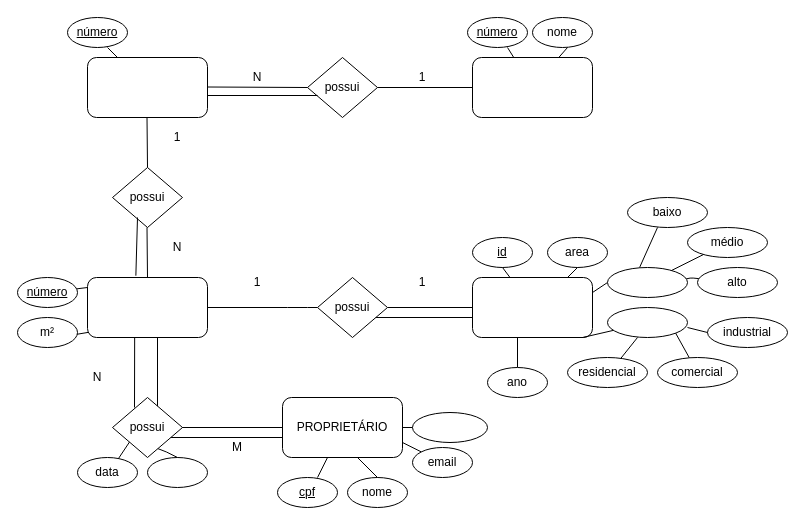
The diagram is 805 pixels wide and 525 high, and some of its shapes have lost their labels. The centre of each missing label's shape, as x and y in pixels:
acabamento: pixel 647 282
EDIFICAÇÕES: pixel 532 307
endereço: pixel 450 427
LOTES: pixel 147 307
QUADRAS: pixel 147 87
SETOR: pixel 532 87
tipo: pixel 647 322
valor: pixel 177 472
